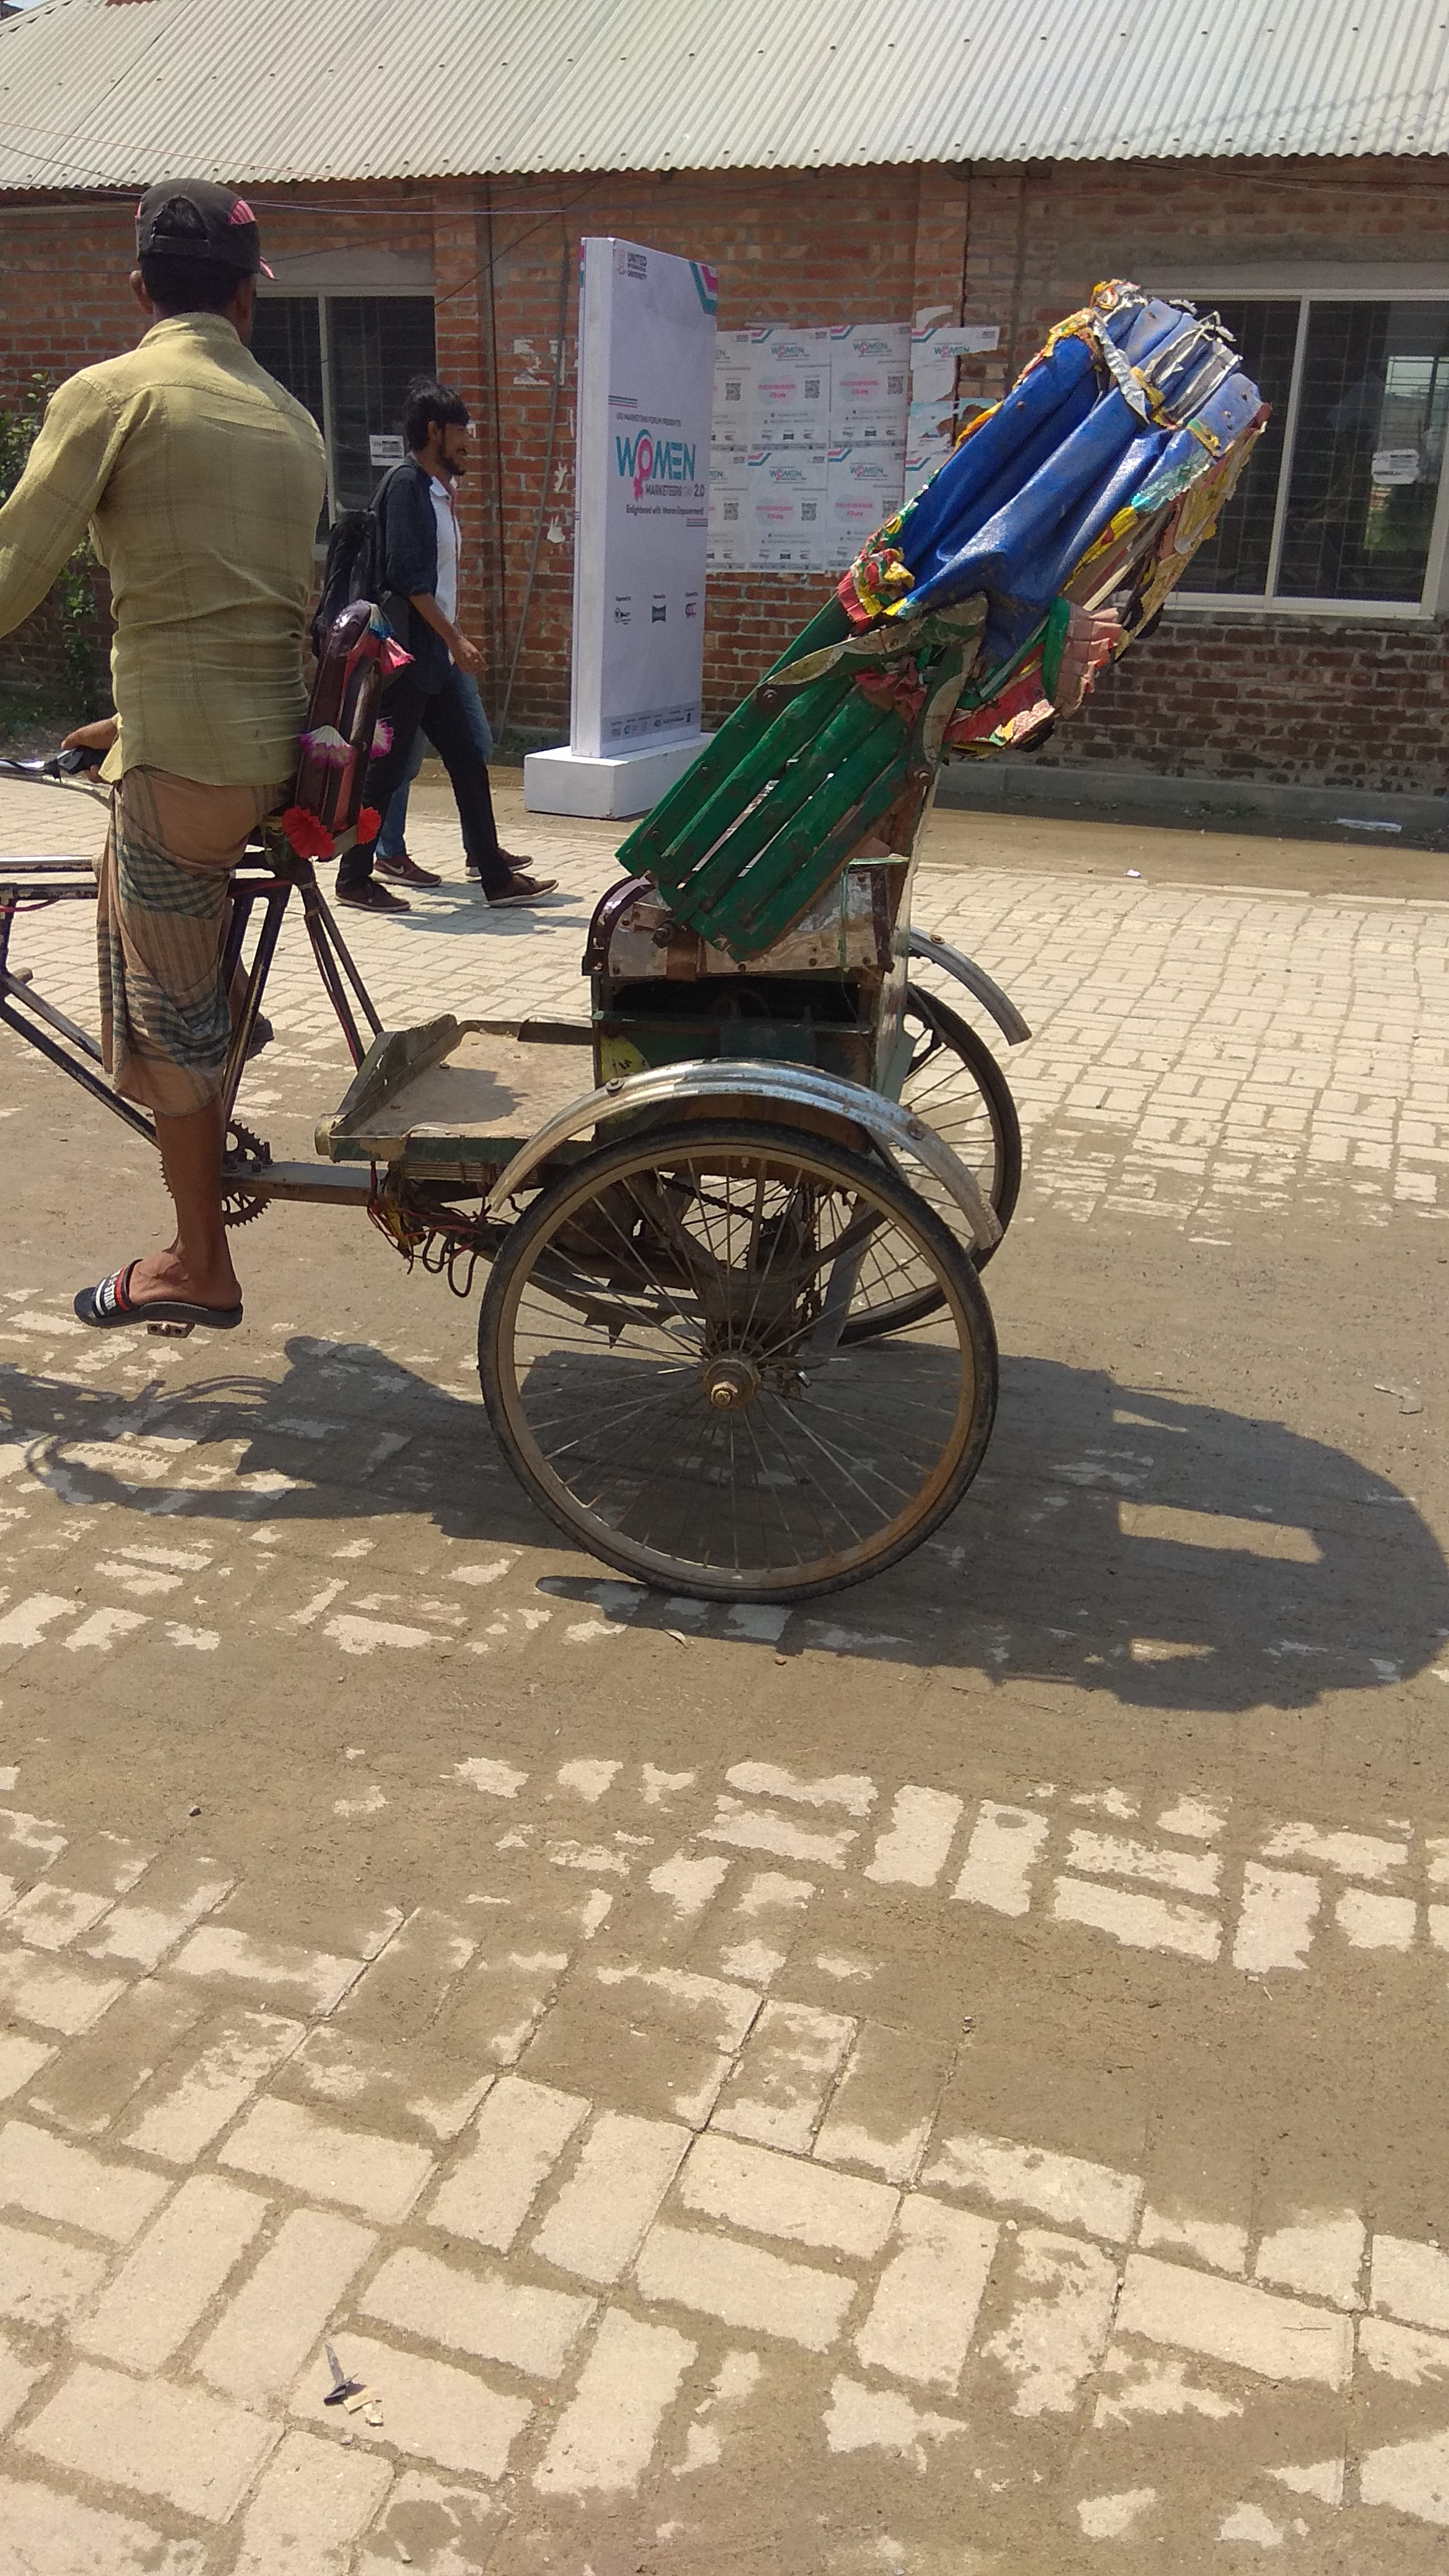Rickshaw: (9, 173, 1284, 1614)
